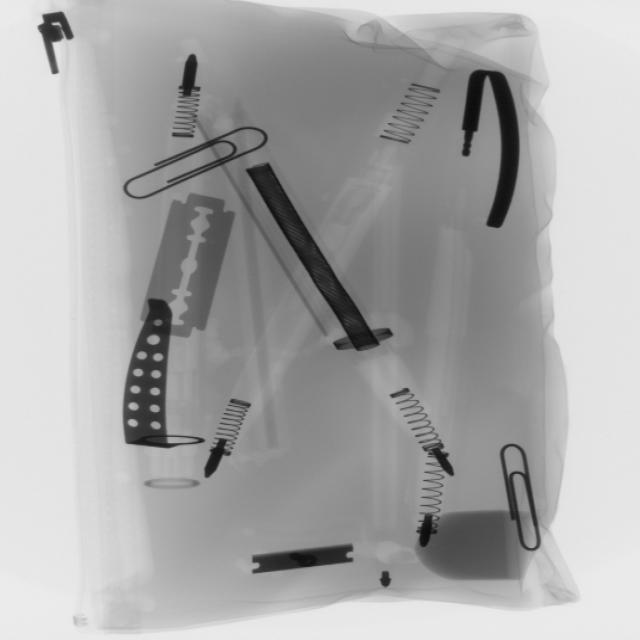BLADE: (140, 182, 240, 354)
